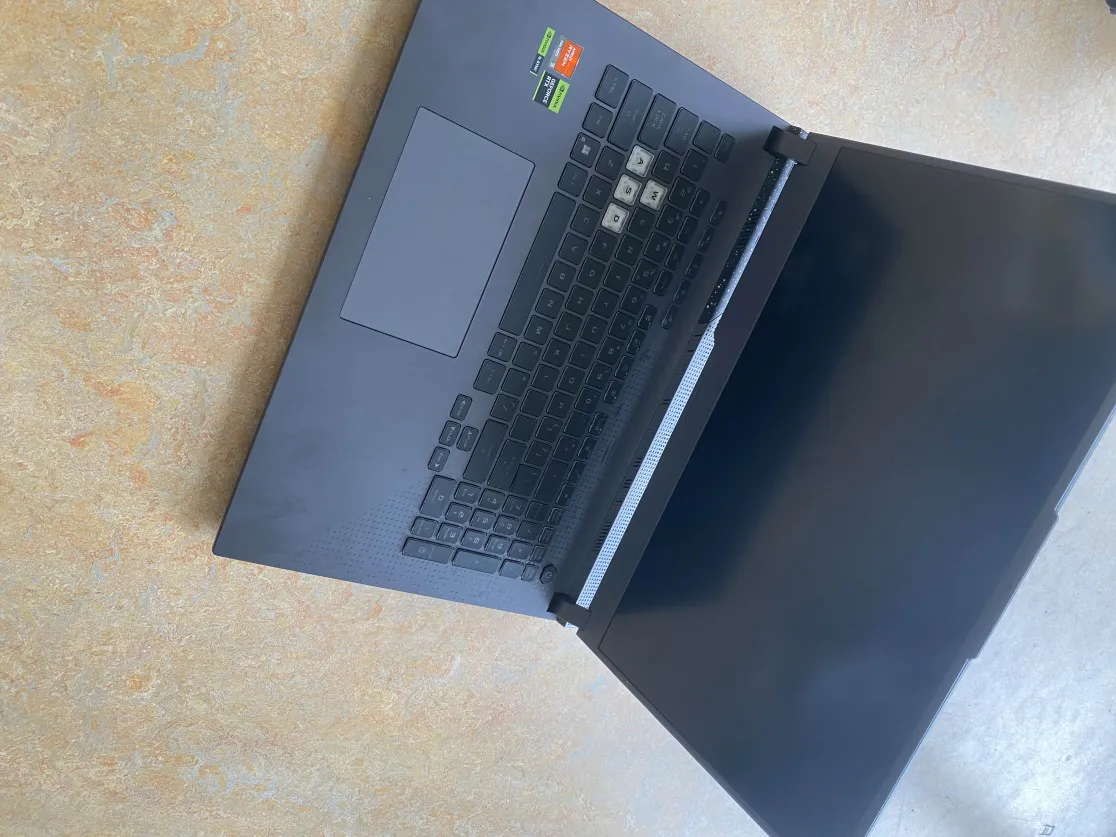laptop: (173, 4, 1116, 814)
